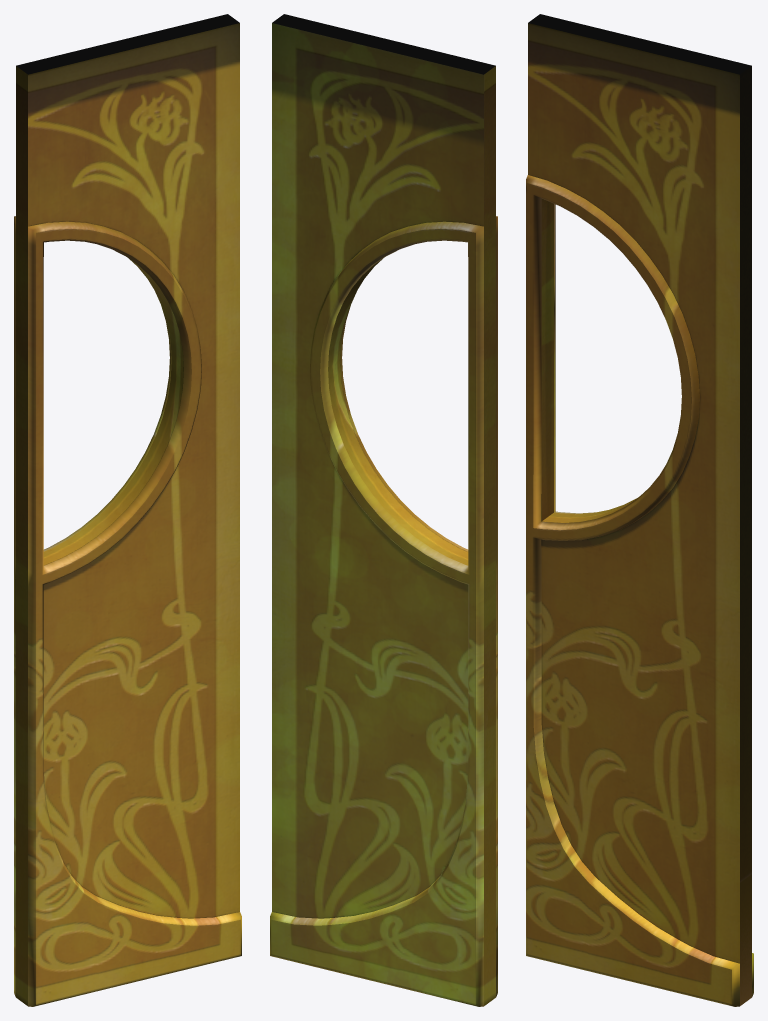
File: wams_door_R.glb
3 views of the same model, side by side, from view 1: azimuth 30°, elevation 25°; view 2: azimuth 150°, elevation 25°; view 3: azimuth 330°, elevation 25° (orthographic).
Parts seen in each view (by area): view 1: door_R; view 2: door_R; view 3: door_R.
Boxes of the visible parts, x1,y1,x2,y2 form: door_R: (14,14,241,1006); door_R: (270,14,497,1006); door_R: (526,14,753,1006).
Bounding box in the file's own units: 1.85 × 7.77 × 0.3213.
1 material, 1 textured.
